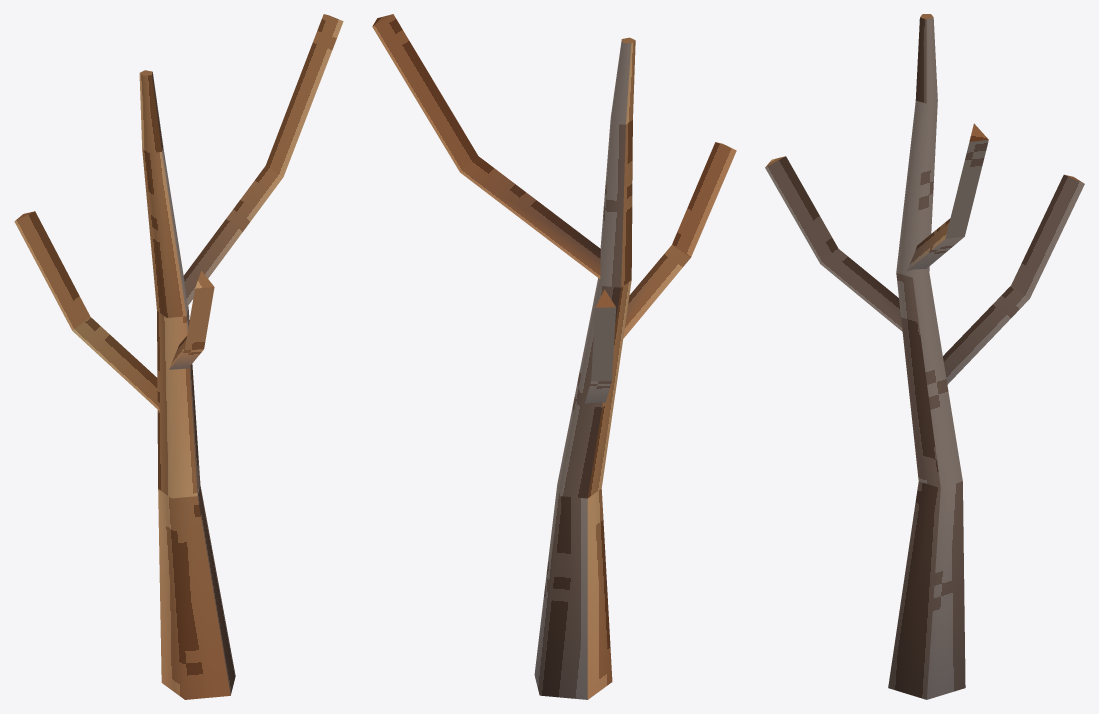
The model's file is wland.dead_tree__small.glb.
3 views of the same model, side by side, from view 1: azimuth 30°, elevation 25°; view 2: azimuth 150°, elevation 25°; view 3: azimuth 270°, elevation 25° (orthographic). The views are drawn at different scales.
Visible parts, largest first — view 1: kit_trunk, kit_branches; view 2: kit_trunk, kit_branches; view 3: kit_trunk, kit_branches.
Boxes of the visible parts, left/top/right/bottom form: kit_trunk: left=139, top=70, right=235, bottom=699; kit_branches: left=14, top=14, right=343, bottom=411; kit_trunk: left=534, top=37, right=635, bottom=699; kit_branches: left=372, top=14, right=736, bottom=403; kit_trunk: left=888, top=14, right=965, bottom=699; kit_branches: left=765, top=123, right=1084, bottom=384.
Size of the model in its own units: 1.17 by 2.52 by 1.14.
1 material, 1 textured.
